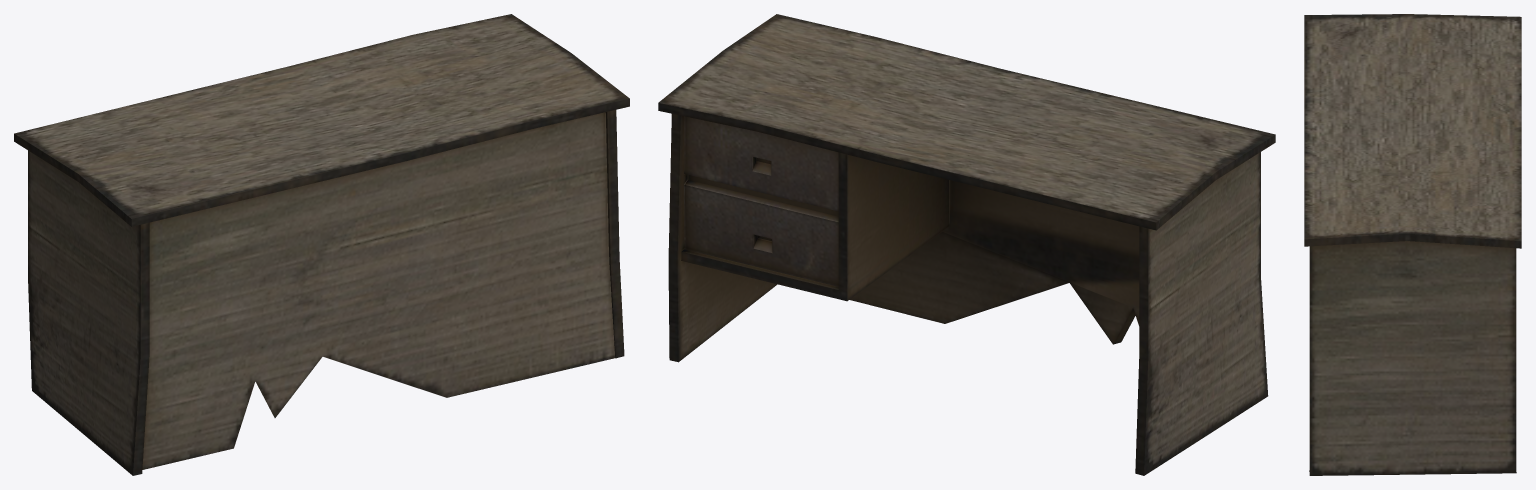
The model's file is BrokenDesk_01.FBX.
The picture shows the model from 3 angles, left to right: view 1: azimuth 30°, elevation 25°; view 2: azimuth 150°, elevation 25°; view 3: azimuth 270°, elevation 25°; orthographic projection. The views are drawn at different scales.
Visible parts, largest first — view 1: BrokenDesk_01; view 2: BrokenDesk_01; view 3: BrokenDesk_01.
Boxes of the visible parts, box(x1,y1,x2,y2) form: BrokenDesk_01: box(14, 14, 629, 475); BrokenDesk_01: box(658, 14, 1275, 475); BrokenDesk_01: box(1304, 14, 1521, 475).
Size of the model in its own units: 166 by 84.16 by 68.35.
Materials: 1 (1 with a texture image).
